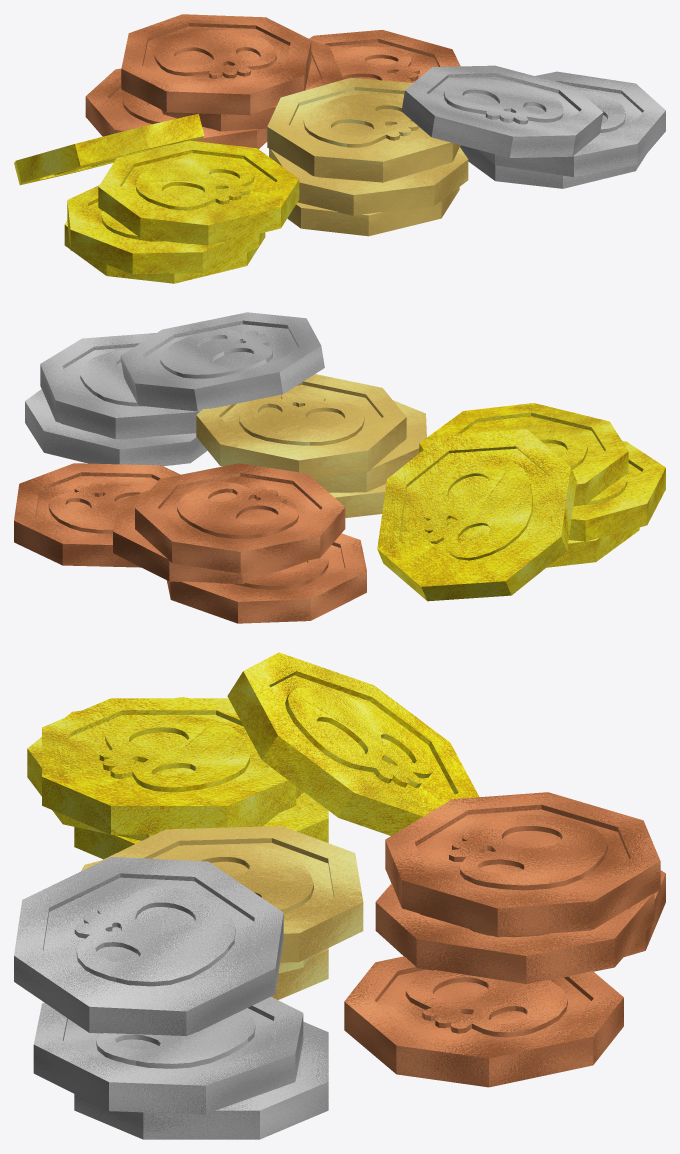
The model's file is Coins.fbx.
3 renders of one model, top to bottom at view 1: azimuth 30°, elevation 25°; view 2: azimuth 150°, elevation 25°; view 3: azimuth 270°, elevation 25°, orthographic. The views are drawn at different scales.
Visible parts, largest first — view 1: GoldenCoin.005, CopperCoin2, SilverCoin, GoldenCoin.008, SilverCoin2, GoldenCoin.004, GoldenCoin.007, CopperCoin1, GoldenCoin.006, CopperCoin4, GoldenCoin.003, CopperCoin3 (+2 smaller); view 2: GoldenCoin.006, CopperCoin2, GoldenCoin.008, SilverCoin, CopperCoin1, SilverCoin2, CopperCoin4, GoldenCoin.005, SilverCoin3, GoldenCoin.004, CopperCoin3, GoldenCoin.007 (+2 smaller); view 3: SilverCoin, CopperCoin2, GoldenCoin.005, CopperCoin1, GoldenCoin.006, SilverCoin2, GoldenCoin.008, CopperCoin3, SilverCoin3, GoldenCoin, GoldenCoin.003, GoldenCoin.004 (+1 smaller).
Part boxes in pixels (left/top/right/bottom): GoldenCoin.005: left=98, top=140, right=299, bottom=245; CopperCoin2: left=121, top=14, right=311, bottom=115; SilverCoin: left=401, top=65, right=603, bottom=157; GoldenCoin.008: left=267, top=77, right=460, bottom=182; SilverCoin2: left=478, top=71, right=665, bottom=177; GoldenCoin.004: left=67, top=185, right=259, bottom=274; GoldenCoin.007: left=269, top=147, right=468, bottom=215; CopperCoin1: left=309, top=29, right=460, bottom=82; GoldenCoin.006: left=14, top=113, right=204, bottom=185; CopperCoin4: left=85, top=68, right=267, bottom=149; GoldenCoin.003: left=287, top=187, right=459, bottom=236; CopperCoin3: left=161, top=40, right=343, bottom=131; GoldenCoin.006: left=377, top=429, right=576, bottom=601; CopperCoin2: left=135, top=463, right=345, bottom=573; GoldenCoin.008: left=196, top=374, right=406, bottom=479; SilverCoin: left=120, top=312, right=324, bottom=411; CopperCoin1: left=14, top=463, right=180, bottom=567; SilverCoin2: left=40, top=333, right=200, bottom=439; CopperCoin4: left=166, top=533, right=366, bottom=623; GoldenCoin.005: left=419, top=403, right=628, bottom=506; SilverCoin3: left=25, top=389, right=207, bottom=466; GoldenCoin.004: left=568, top=441, right=665, bottom=541; CopperCoin3: left=113, top=490, right=307, bottom=584; GoldenCoin.007: left=315, top=400, right=426, bottom=492; SilverCoin: left=14, top=857, right=283, bottom=1035; CopperCoin2: left=385, top=792, right=660, bottom=937; GoldenCoin.005: left=42, top=698, right=296, bottom=834; CopperCoin1: left=344, top=956, right=623, bottom=1087; GoldenCoin.006: left=227, top=652, right=479, bottom=835; SilverCoin2: left=33, top=997, right=303, bottom=1114; GoldenCoin.008: left=101, top=826, right=363, bottom=962; CopperCoin3: left=375, top=883, right=654, bottom=983; SilverCoin3: left=74, top=1021, right=328, bottom=1139; GoldenCoin: left=74, top=792, right=328, bottom=859; GoldenCoin.003: left=271, top=948, right=328, bottom=999; GoldenCoin.004: left=27, top=697, right=303, bottom=840.
Bounding box in the file's own units: 2066 × 375 × 1465.
